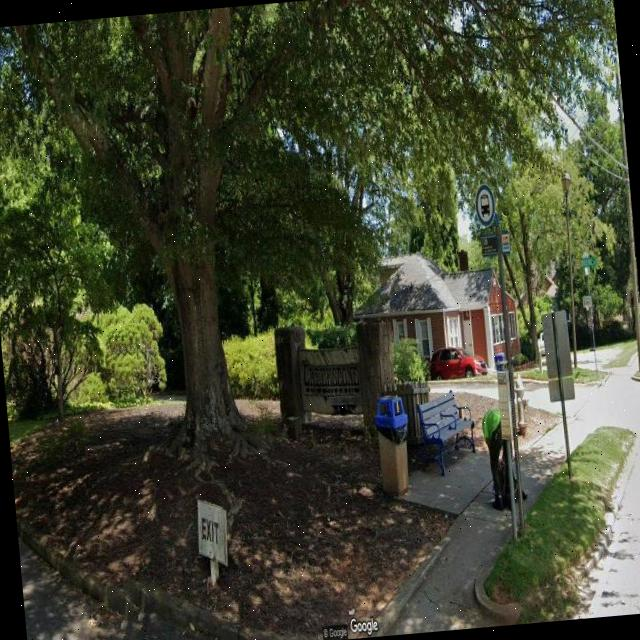seating: (414, 387, 479, 478)
trash_can: (372, 392, 415, 500)
